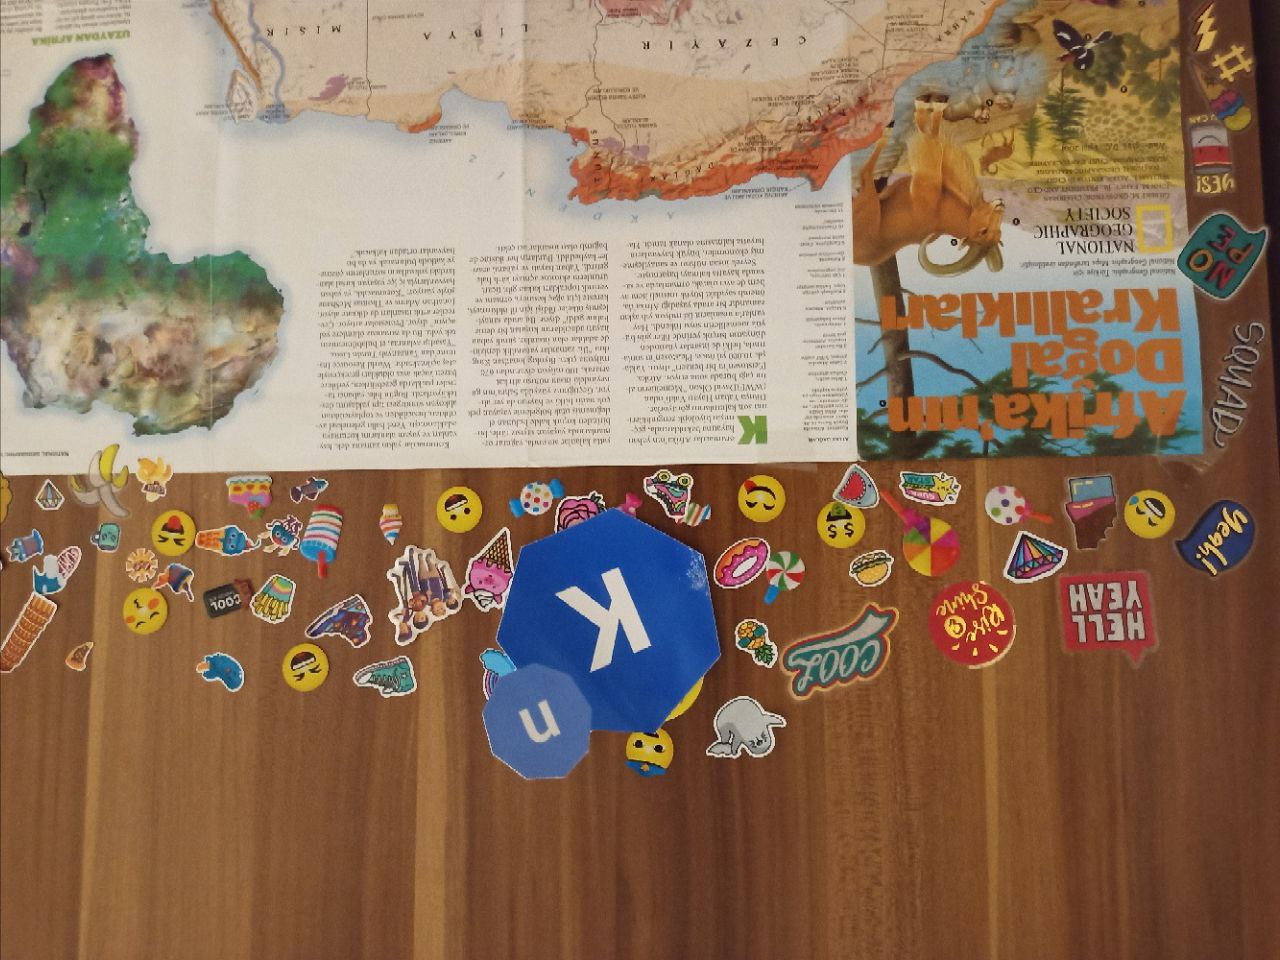knative: (480, 507, 722, 781)
